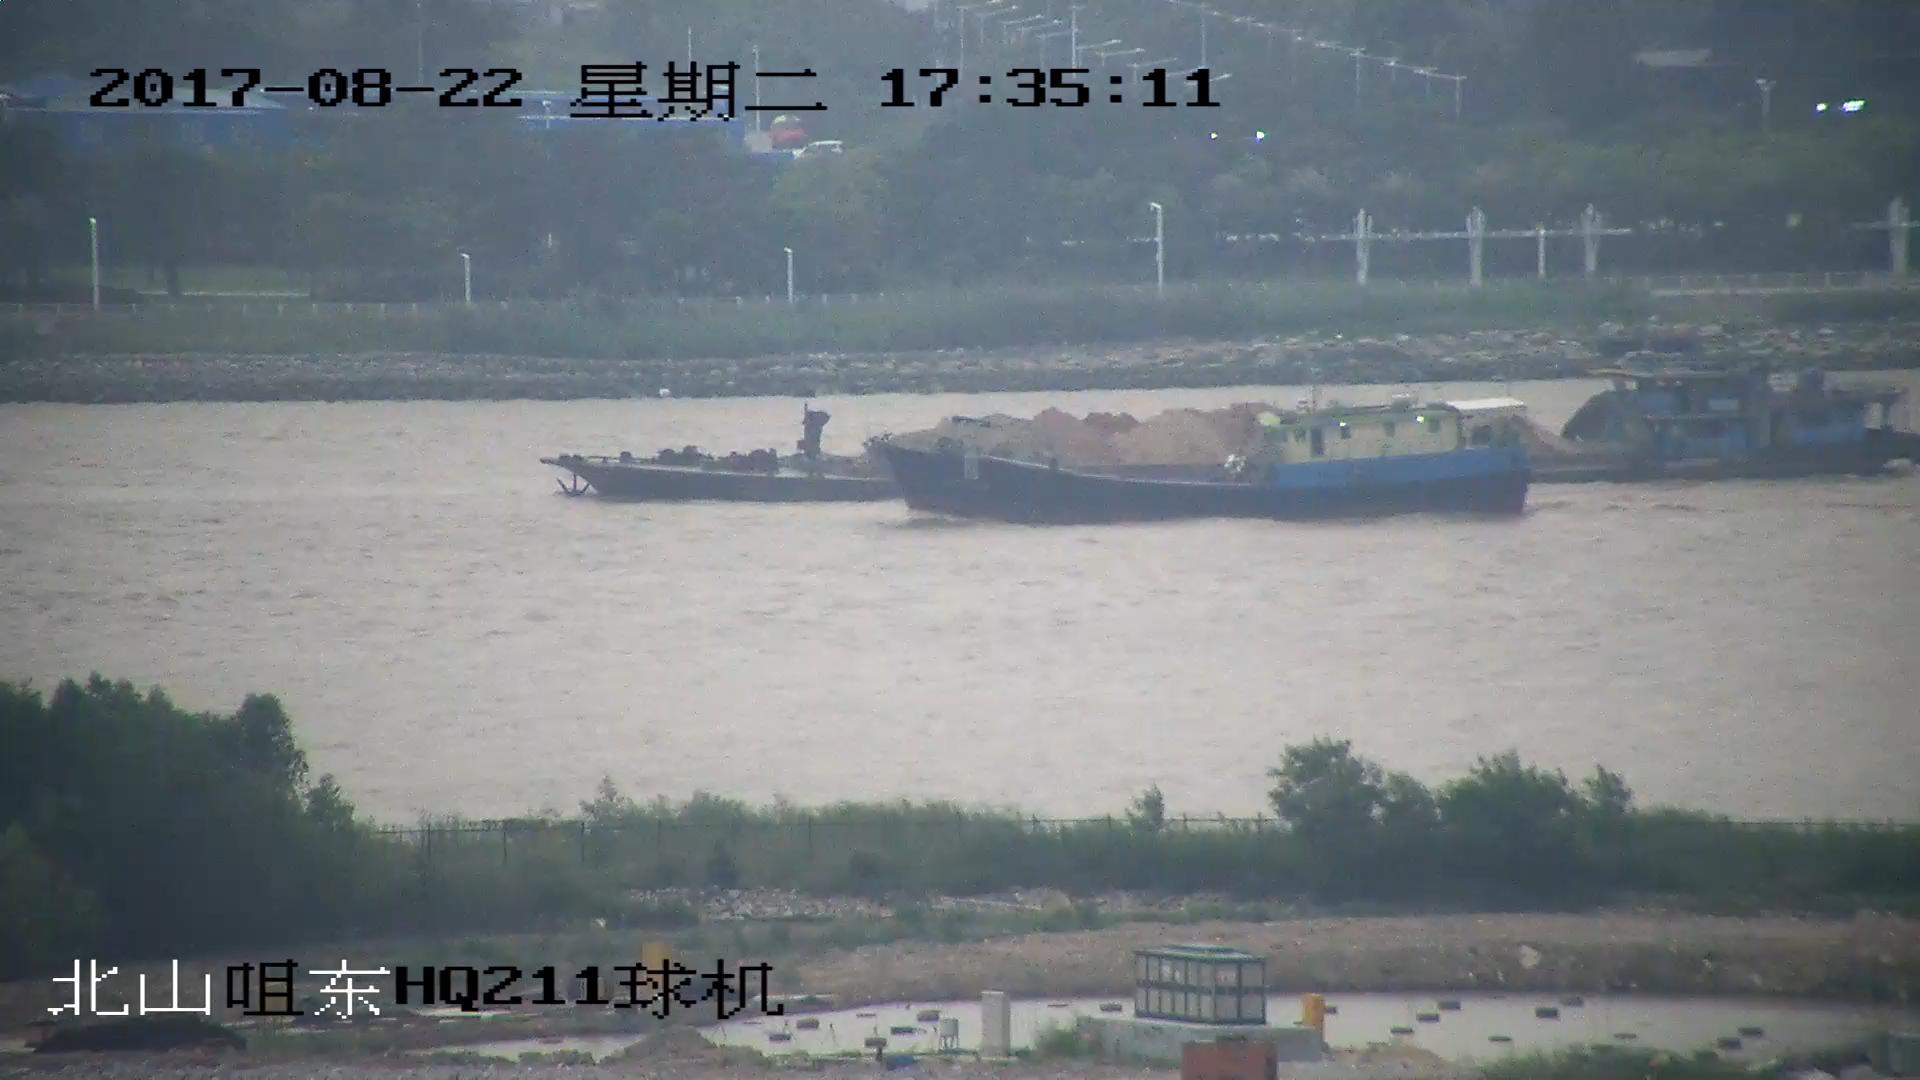Ship: (551, 359, 1920, 500), (881, 389, 1526, 524)
